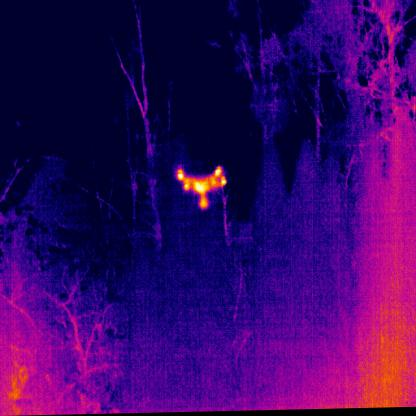drone: (175, 165, 225, 207)
